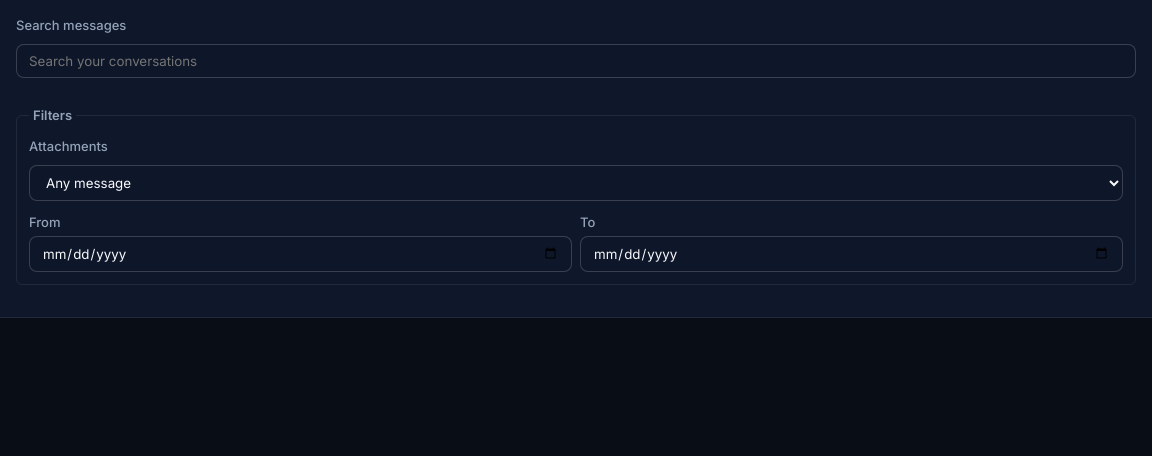
Scenario: results › renders the truncation notice when the search was cut short
The width and height of the screenshot is (1152, 456).
Type "deploy" into the search field with test id "search-input" at x=576, y=60, box 16,44 -> 1136,78
Wait 300 ms
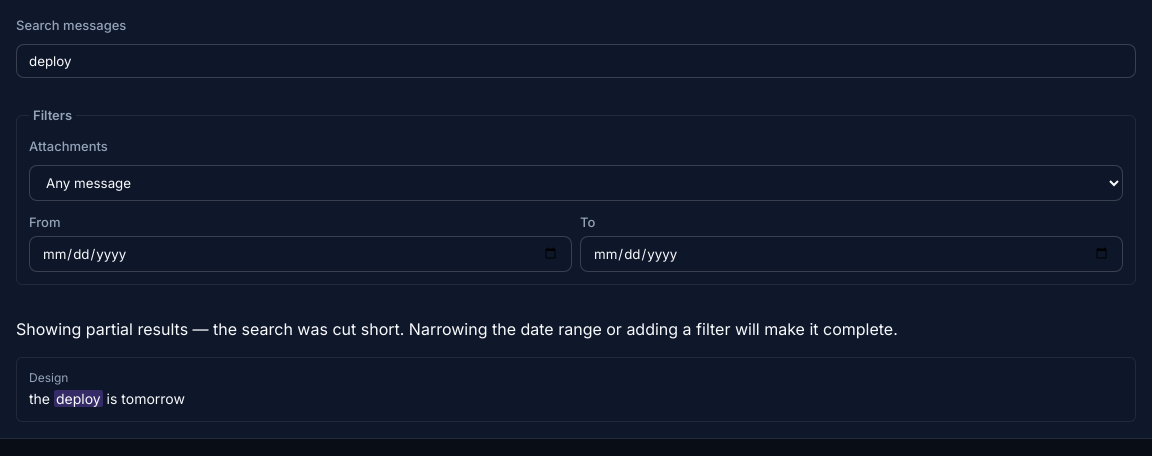
expect the text with test id "search-truncated" shows "partial results": met, box 16,319 -> 898,339
expect the text with test id "search-truncated" shows "Narrowing the date range": met, box 16,319 -> 898,339
